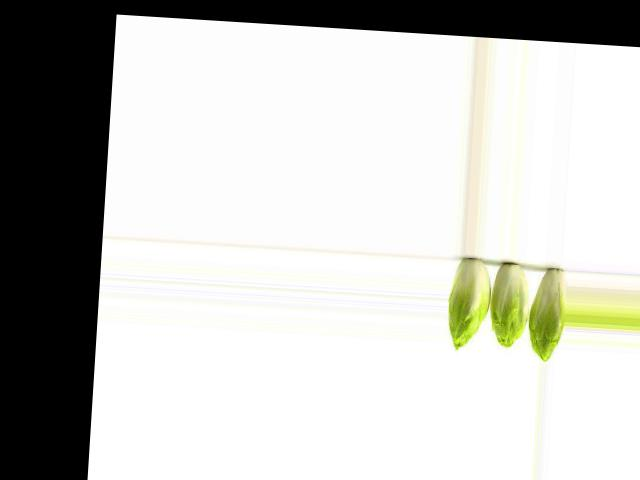lettuce: (445, 253, 491, 352)
